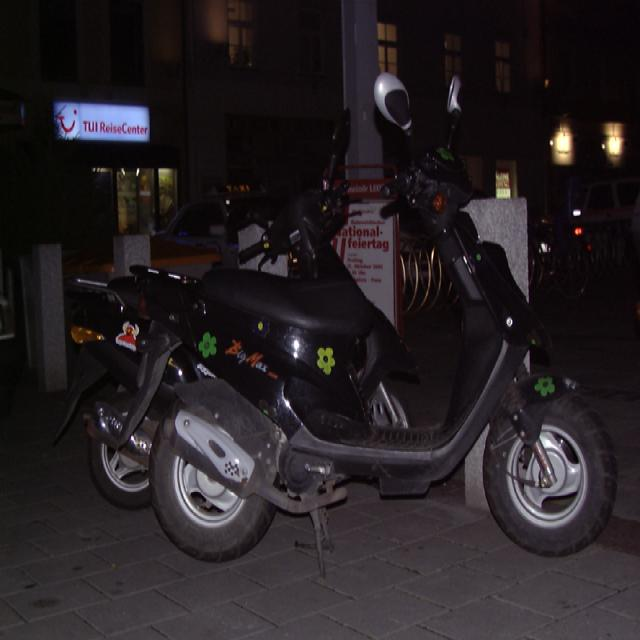Motorbike: (150, 70, 615, 560)
